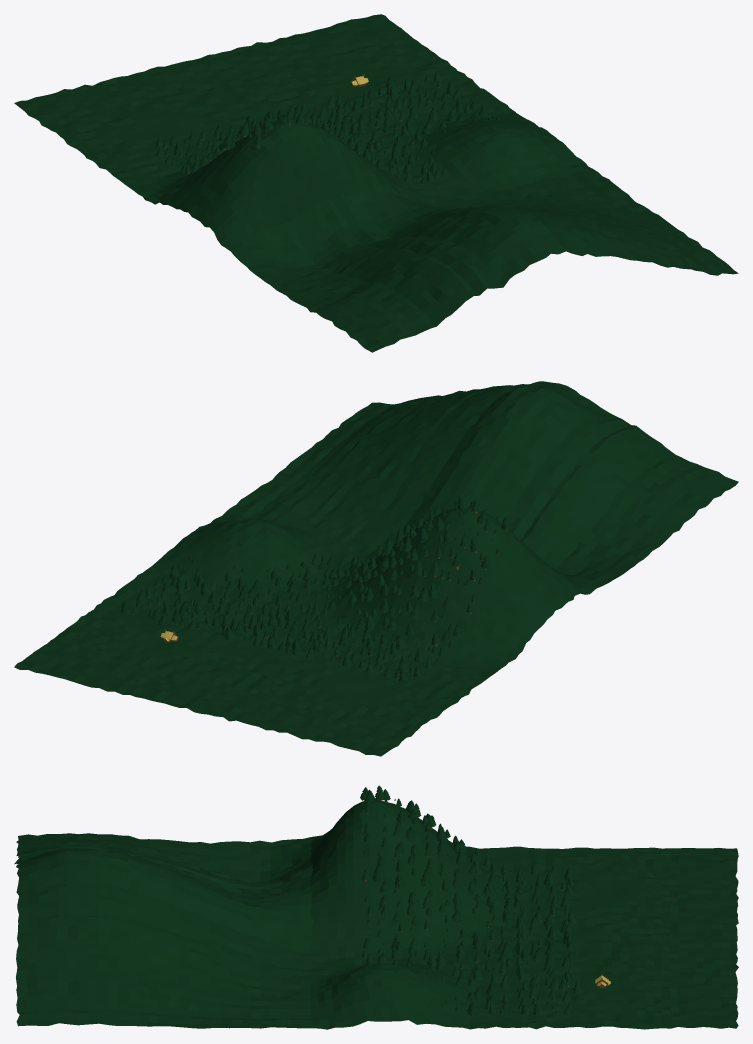
The model's file is intro.fbx.
The picture shows the model from 3 angles, top to bottom: view 1: azimuth 30°, elevation 25°; view 2: azimuth 150°, elevation 25°; view 3: azimuth 270°, elevation 25°; orthographic projection.
Visible parts, largest first — view 1: mainHall; view 2: mainHall; view 3: mainHall.
Part boxes in pixels (bbox=[...]): mainHall: bbox=[14, 14, 738, 352]; mainHall: bbox=[14, 381, 738, 756]; mainHall: bbox=[14, 785, 738, 1029].
Bounding box in the file's own units: 3836 × 1049 × 6474.
